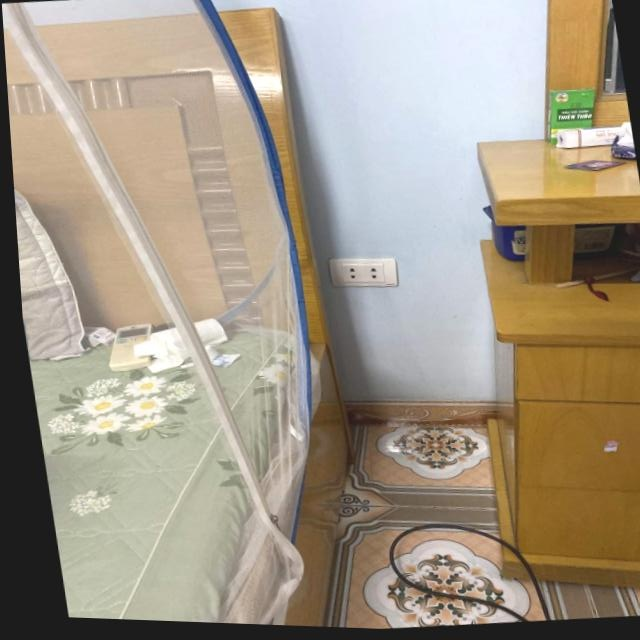outlet: (327, 252, 403, 292)
